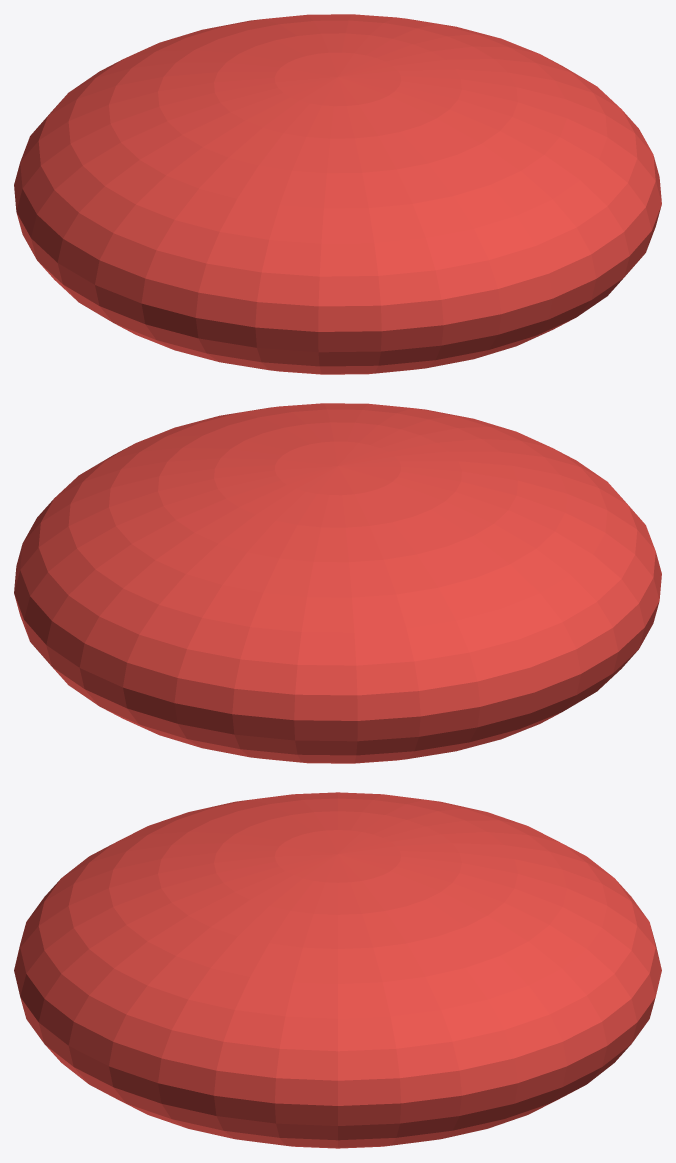
The model's file is soft_chair.glb.
3 views of the same model, one above another, from view 1: azimuth 30°, elevation 25°; view 2: azimuth 150°, elevation 25°; view 3: azimuth 270°, elevation 25° (orthographic).
Visible parts, largest first — view 1: Sphere; view 2: Sphere; view 3: Sphere.
Boxes of the visible parts, x1,y1,x2,y2 form: Sphere: (14,14,661,374); Sphere: (14,403,661,763); Sphere: (14,792,661,1148).
Size of the model in its own units: 2 by 0.8 by 2.02.
